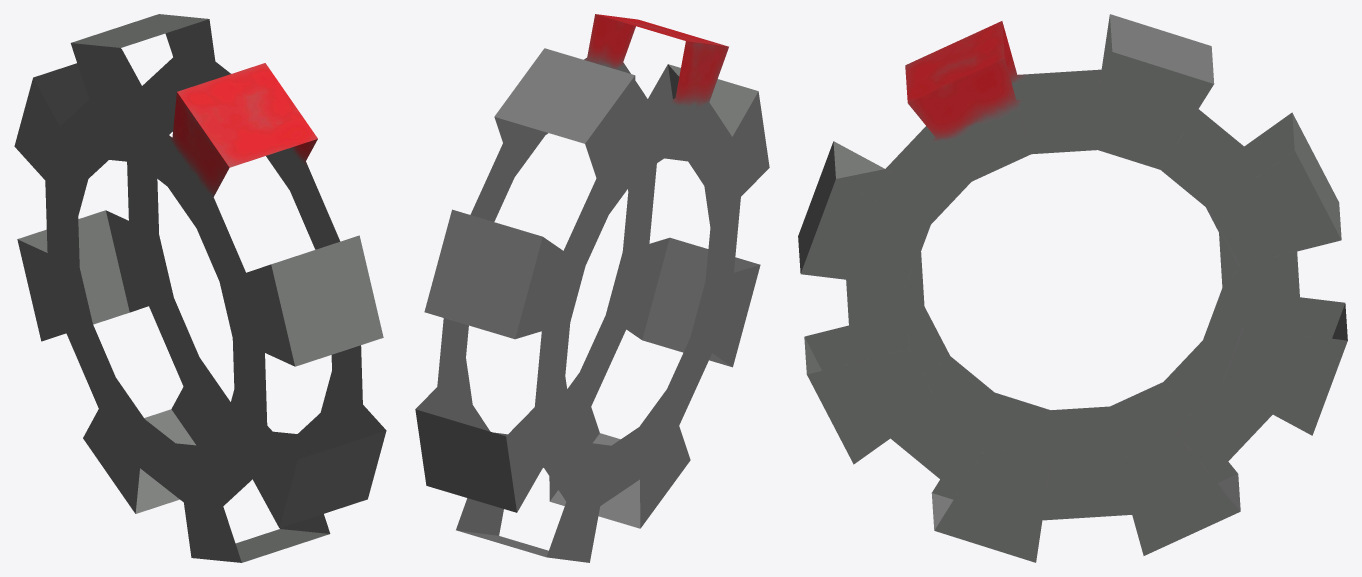
File: ggear.fbx
The picture shows the model from 3 angles, left to right: view 1: azimuth 30°, elevation 25°; view 2: azimuth 150°, elevation 25°; view 3: azimuth 270°, elevation 25°; orthographic projection.
Parts seen in each view (by area): view 1: node_id4; view 2: node_id4; view 3: node_id4.
Boxes of the visible parts, bbox=[...] form: node_id4: bbox=[14, 14, 386, 562]; node_id4: bbox=[415, 14, 769, 562]; node_id4: bbox=[798, 14, 1347, 562].
Size of the model in its own units: 0.1322 by 0.5123 by 0.5093.
1 material, 1 textured.
